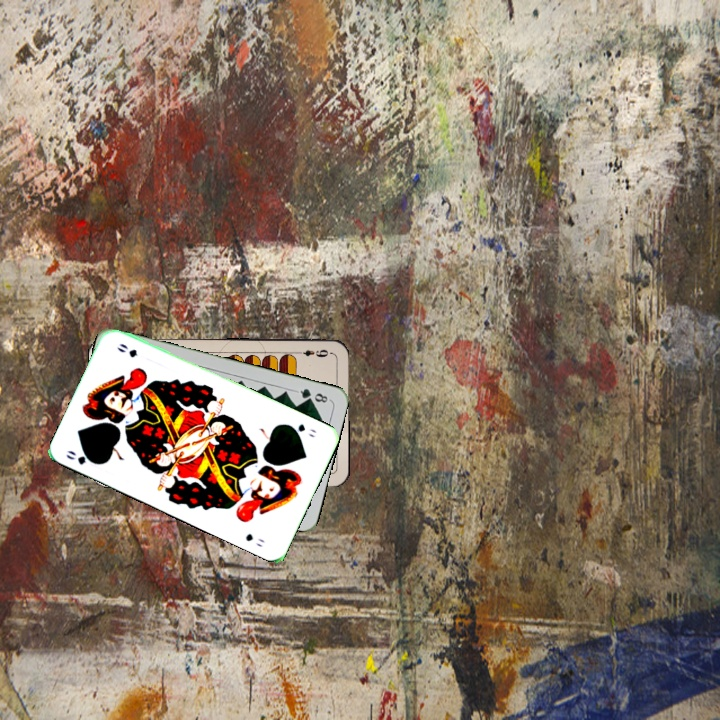E9: (292, 345, 332, 360)
G8: (292, 384, 332, 405)
GO: (62, 446, 102, 467), (283, 420, 319, 440)
